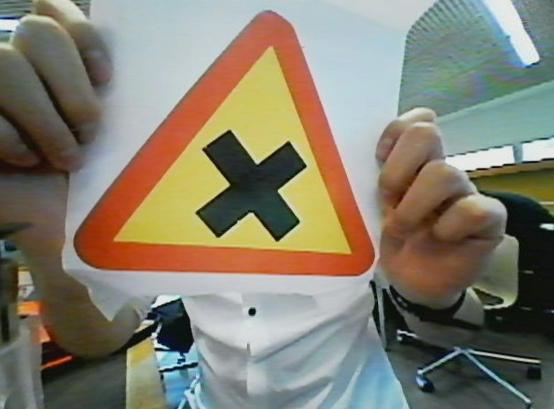junction: (67, 7, 378, 273)
